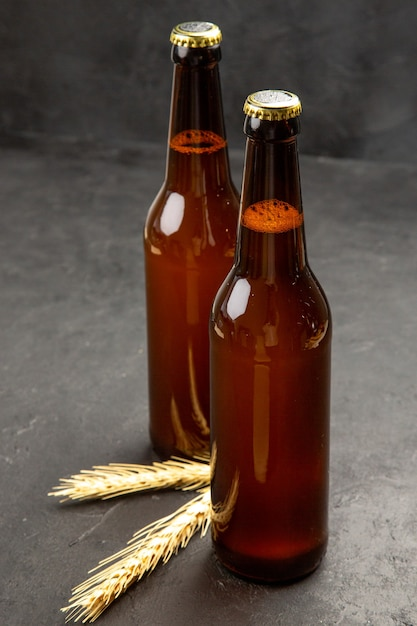alcohol: (211, 89, 332, 590), (145, 23, 245, 467)
